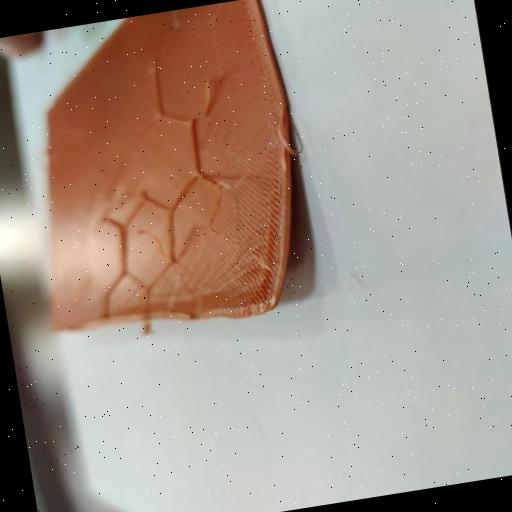cracks: (201, 107, 342, 331)
